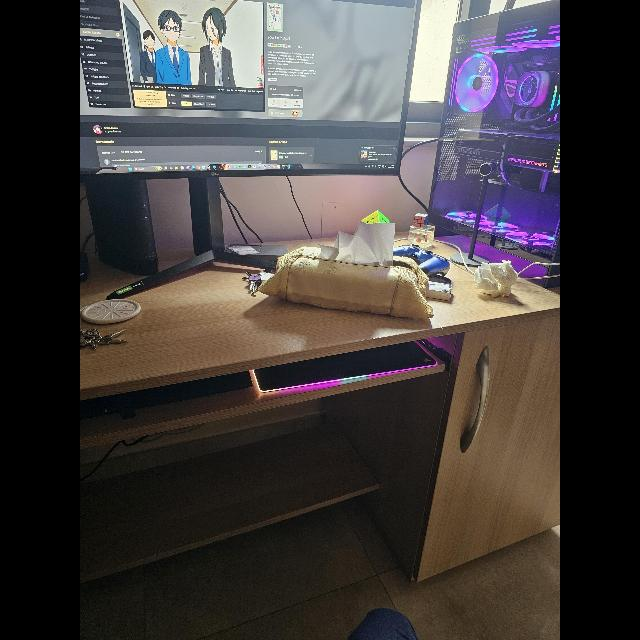Keys: (80, 328, 130, 350), (242, 270, 262, 294)
